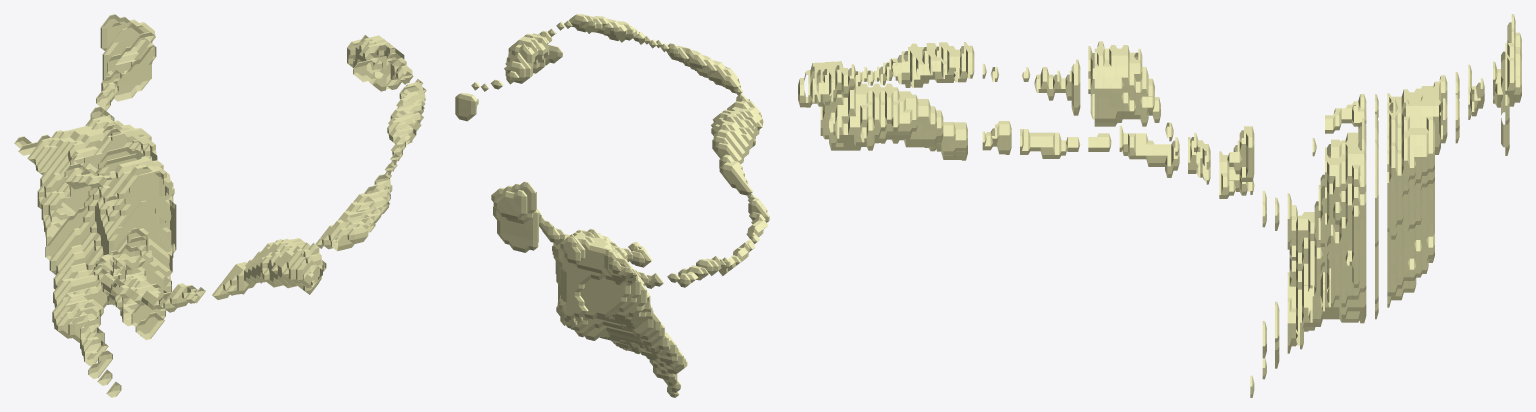
The model's file is SVV_IL2R.gltf.
3 views of the same model, side by side, from view 1: azimuth 30°, elevation 25°; view 2: azimuth 150°, elevation 25°; view 3: azimuth 270°, elevation 25° (orthographic). The views are drawn at different scales.
Visible parts, largest first — view 1: IL2R; view 2: IL2R; view 3: IL2R.
Boxes of the visible parts, x1,y1,x2,y2 form: IL2R: (14,14,426,397); IL2R: (455,14,769,397); IL2R: (798,14,1521,397).
Bounding box in the file's own units: 32272 × 34325 × 44696.
